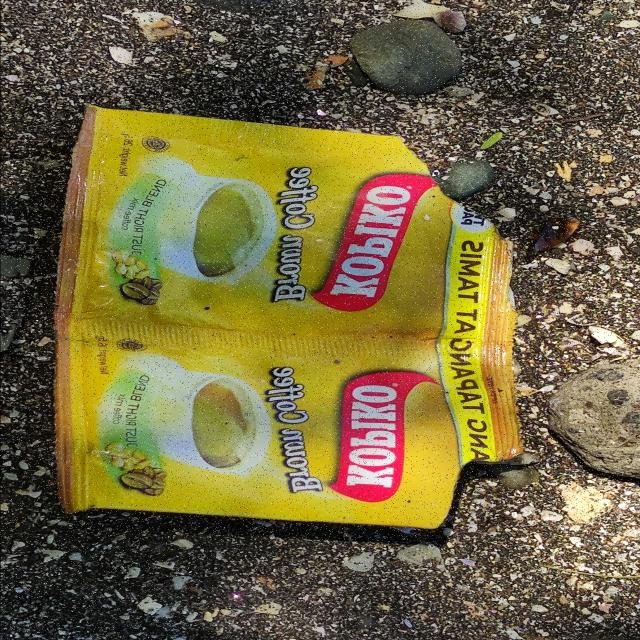plastic_waste: (48, 108, 529, 527)
